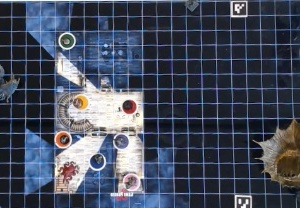blue: (90, 150, 108, 172)
green: (58, 31, 78, 50)
orange: (51, 130, 72, 150)
pink: (121, 173, 141, 192)
red: (121, 98, 138, 116)
violet: (113, 132, 131, 150)
yellow: (72, 93, 90, 111)
